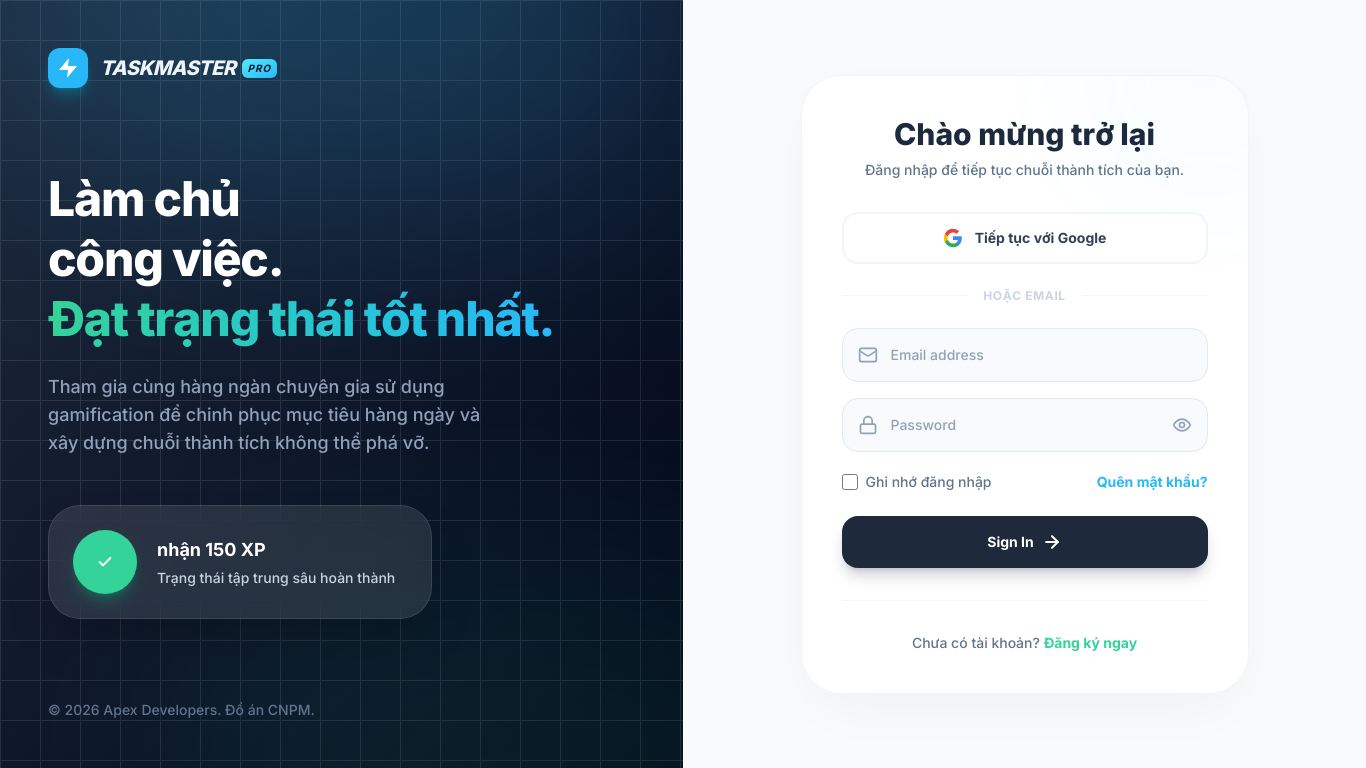
Test: Login & Register UI Flow › switches to register view when "Đăng ký ngay" is clicked
Click the button "Đăng ký ngay". click: (1090, 642)
box: [1044,632,1137,652]
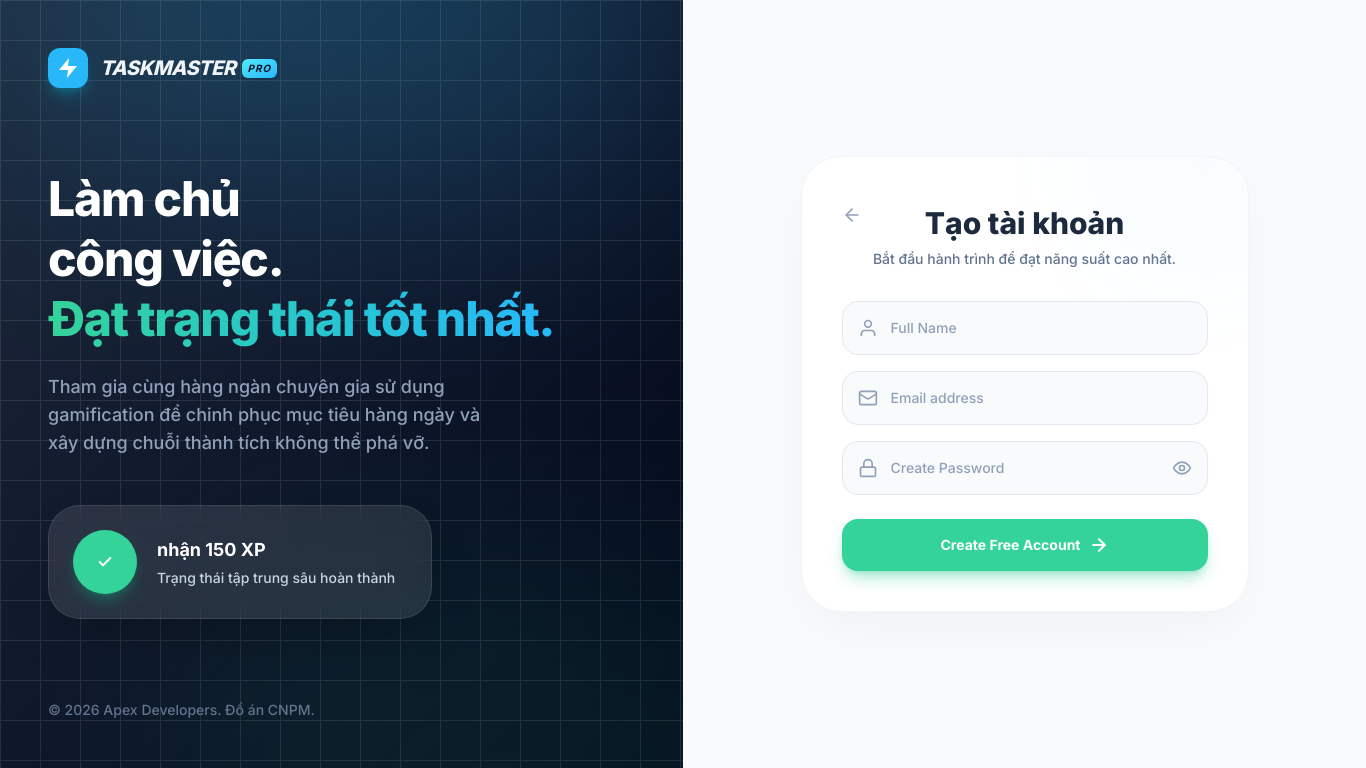
Expected: the heading "Tạo tài khoản" is shown, [925,205,1124,241]
Expected: the field with placeholder "Full Name" is shown, [842,301,1208,355]
